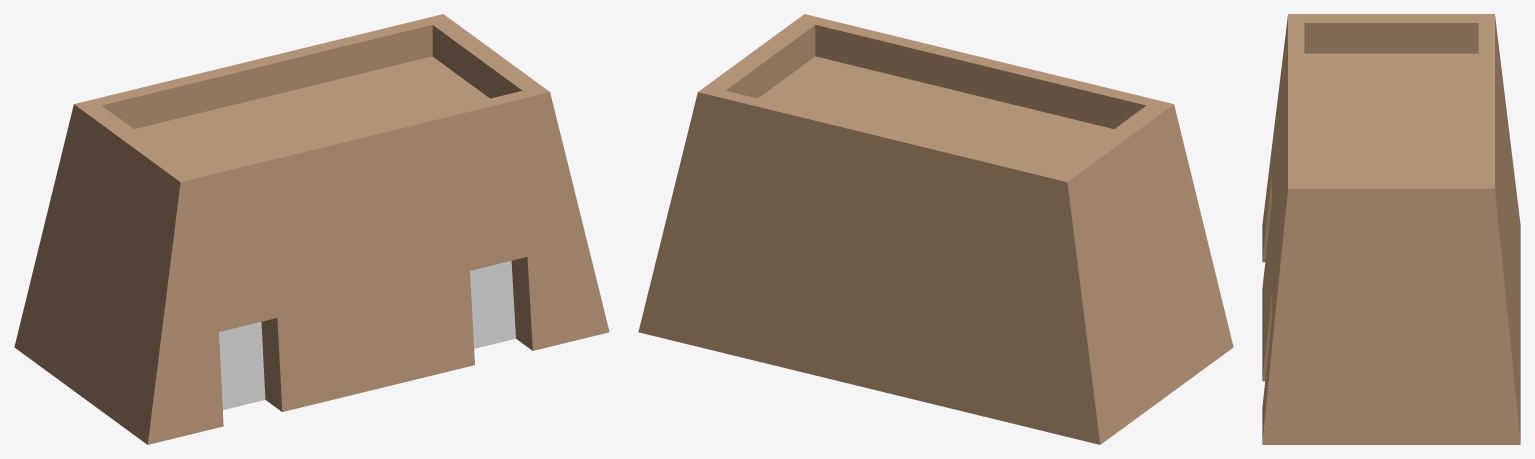
File: HouseBase003.fbx
3 views of the same model, side by side, from view 1: azimuth 30°, elevation 25°; view 2: azimuth 150°, elevation 25°; view 3: azimuth 270°, elevation 25° (orthographic). The views are drawn at different scales.
Parts seen in each view (by area): view 1: HouseBase003; view 2: HouseBase003; view 3: HouseBase003.
Boxes of the visible parts, x1,y1,x2,y2 form: HouseBase003: [14, 14, 609, 444]; HouseBase003: [638, 14, 1233, 444]; HouseBase003: [1262, 14, 1520, 444].
Size of the model in its own units: 1600 by 800 by 800.
